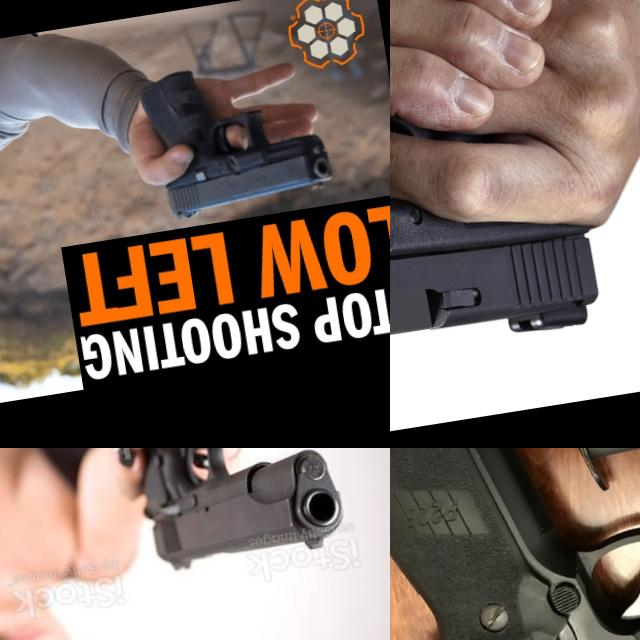handgun: (390, 66, 640, 404), (390, 448, 640, 640), (132, 46, 338, 225), (125, 448, 353, 581)
